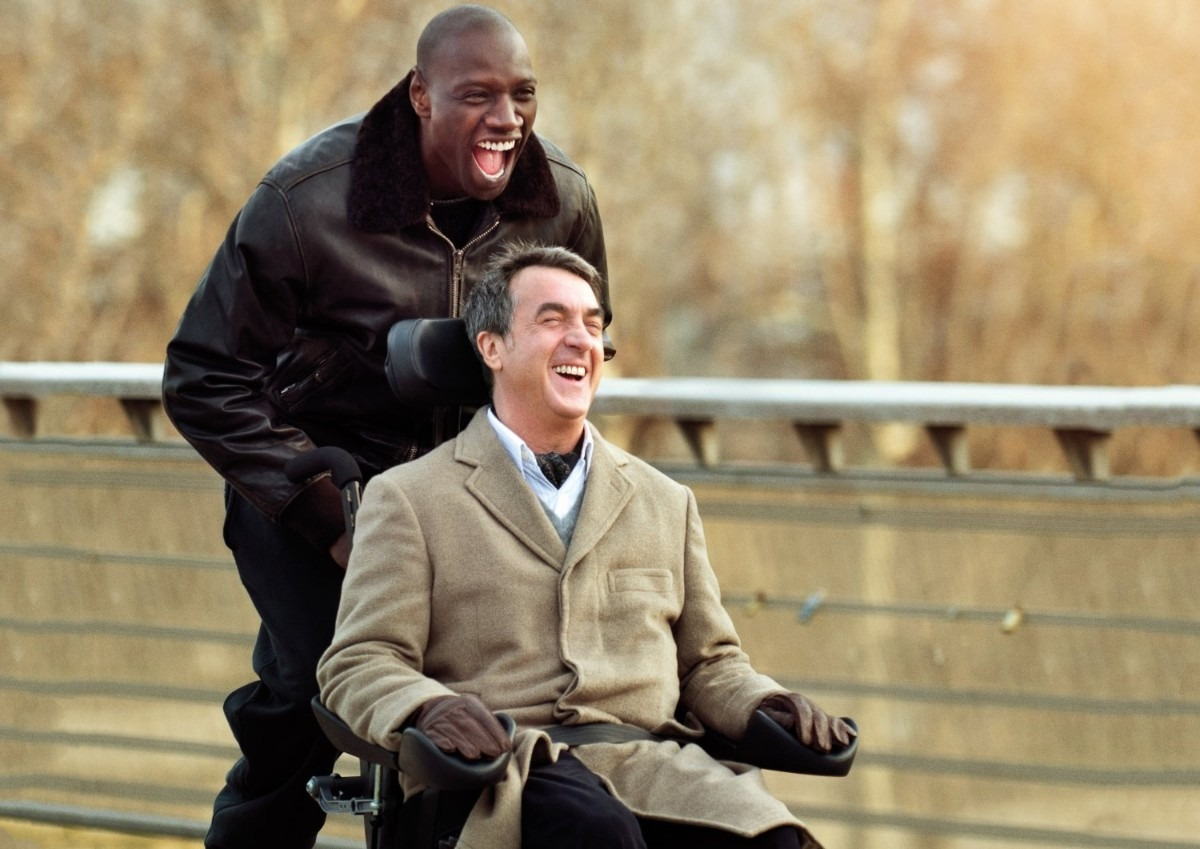Humano: (388, 231, 725, 849), (299, 6, 625, 257)
